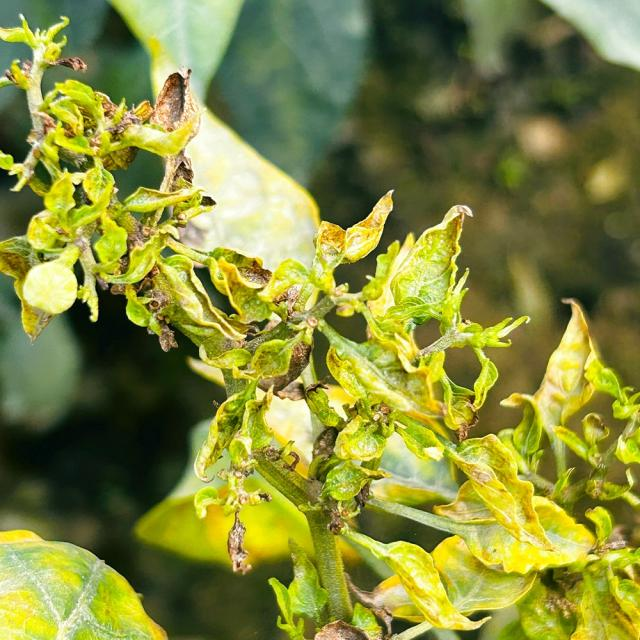Chilli_Leaf_Curl: (1, 10, 638, 638), (0, 527, 168, 639)
